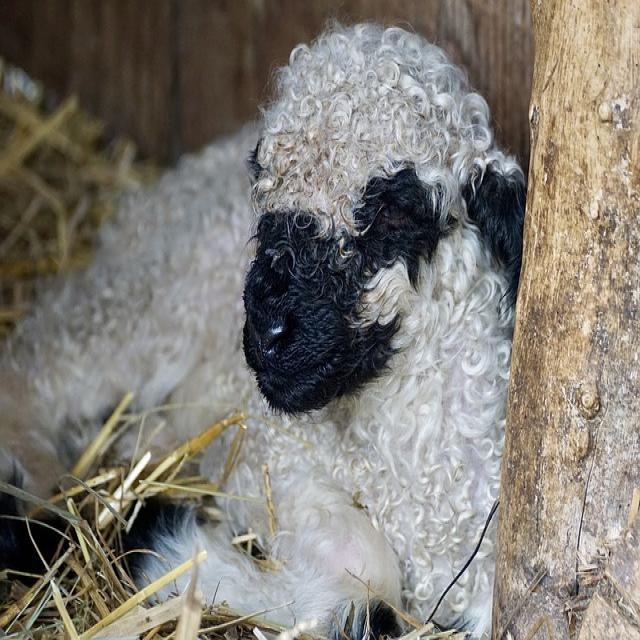goat: (0, 21, 528, 640)
